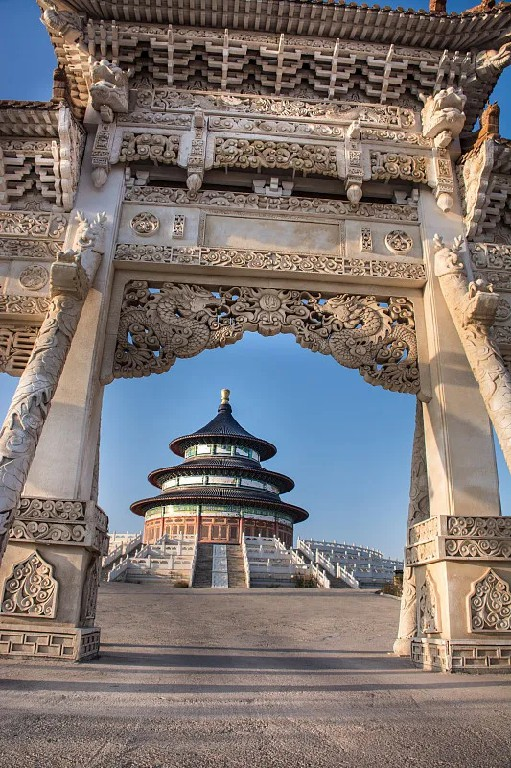Heaven: (129, 388, 309, 547)
